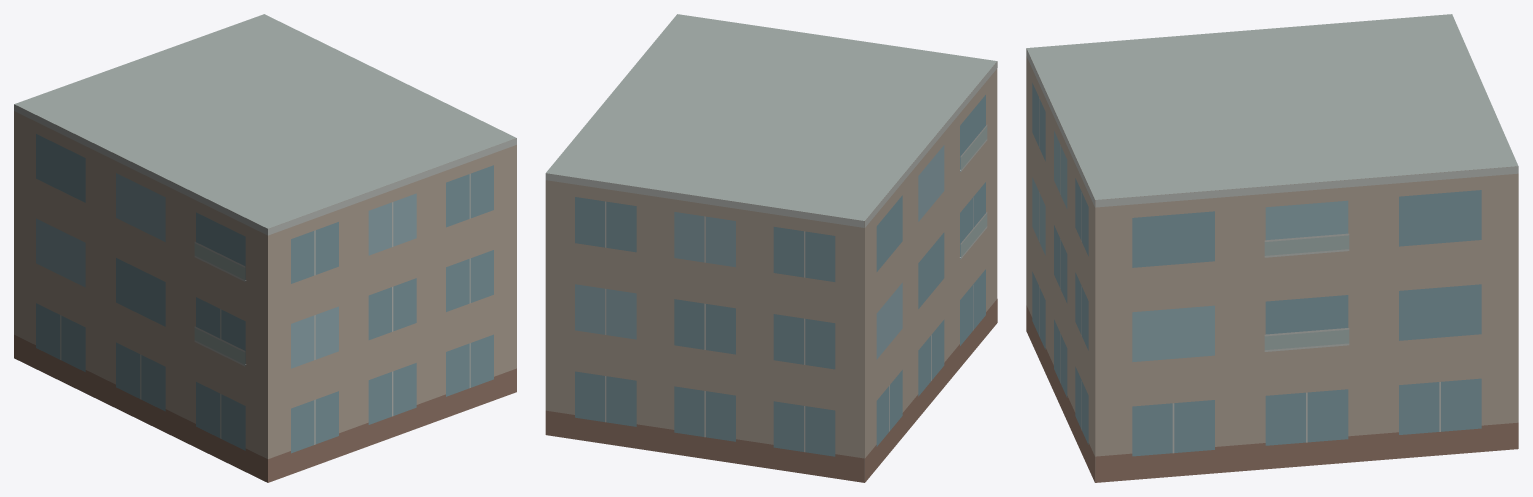
Rendered from survey-upis-32707340.glb.
The picture shows the model from 3 angles, left to right: view 1: azimuth 30°, elevation 25°; view 2: azimuth 150°, elevation 25°; view 3: azimuth 270°, elevation 25°; orthographic projection. The views are drawn at different scales.
Parts seen in each view (by area): view 1: survey-upis-32707340.tmp; view 2: survey-upis-32707340.tmp; view 3: survey-upis-32707340.tmp.
Boxes of the visible parts, <box> form: survey-upis-32707340.tmp: <box>14,14,516,482</box>; survey-upis-32707340.tmp: <box>545,14,997,482</box>; survey-upis-32707340.tmp: <box>1026,14,1518,482</box>.
Size of the model in its own units: 12.91 by 9.15 by 14.44.
